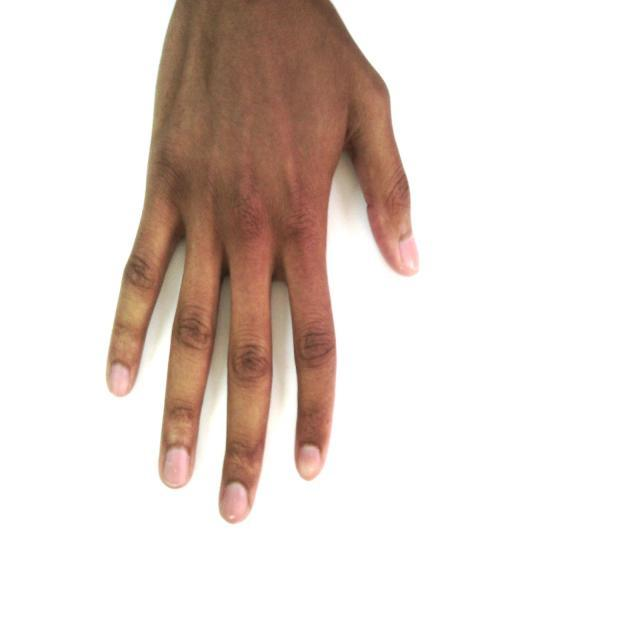Fingernail: (223, 483, 247, 521), (164, 448, 187, 487), (400, 236, 419, 272), (299, 445, 320, 477), (110, 364, 130, 395)
